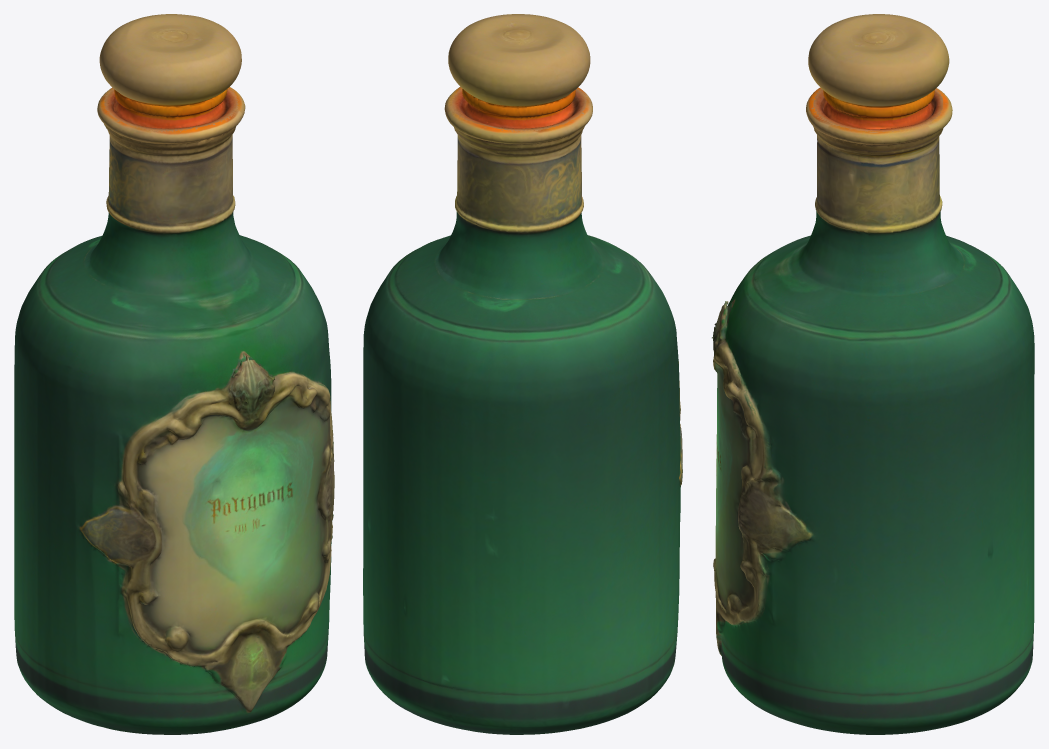
Rendered from Meshy_AI_a_bottle_for_potions__1115233128_texture.glb.
The picture shows the model from 3 angles, left to right: view 1: azimuth 30°, elevation 25°; view 2: azimuth 150°, elevation 25°; view 3: azimuth 270°, elevation 25°; orthographic projection.
Size of the model in its own units: 0.8796 by 2 by 0.9045.
1 material, 1 textured.
